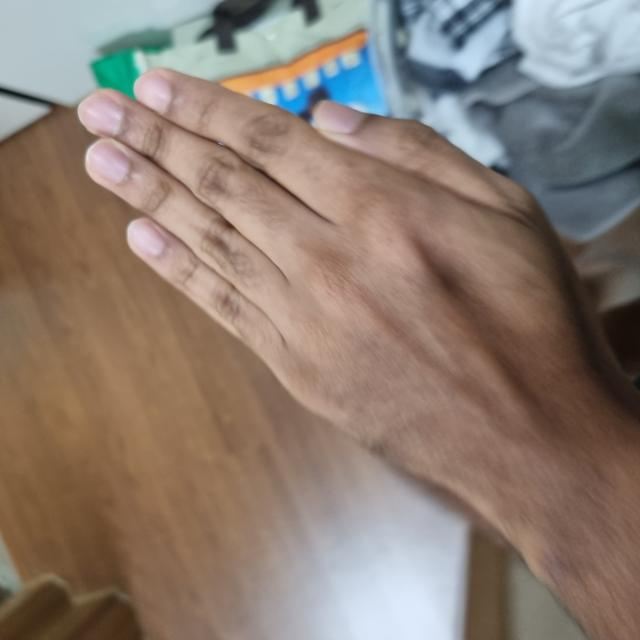Paper: (147, 85, 568, 584)
